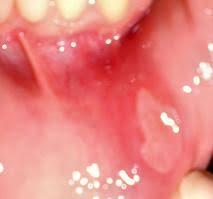Ulcer: (136, 87, 198, 168)
